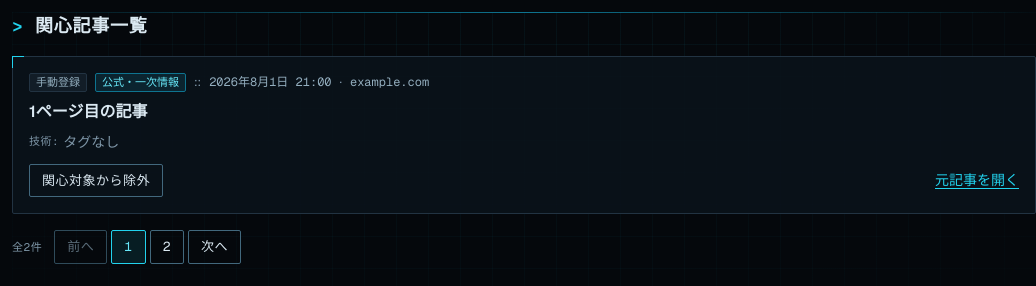
Test case: InterestArticleList › moves to the requested page and replaces the shown articles
Check: the heading "1ページ目の記事" is shown, box [29,101,148,122]
Step 1. Click the button with aria-label "次のページへ" → (214, 247), box [188,230,241,264]
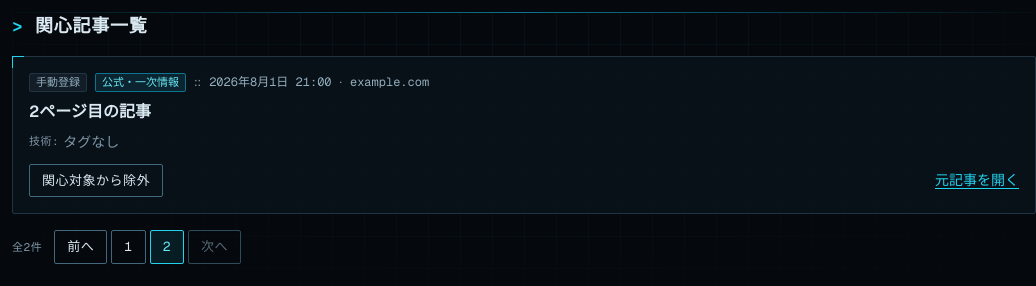
Check: the heading "2ページ目の記事" is shown, box [29,101,151,122]
Check: the heading "1ページ目の記事" is gone
